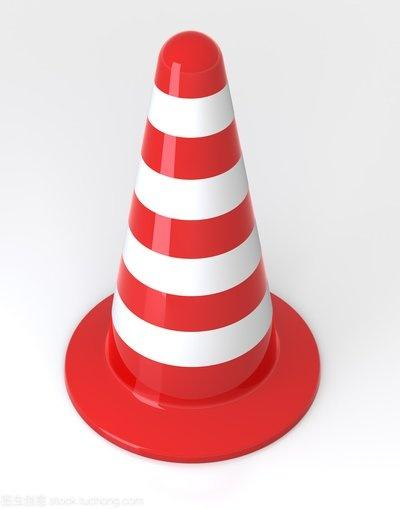cone_barrel: (90, 28, 291, 410)
